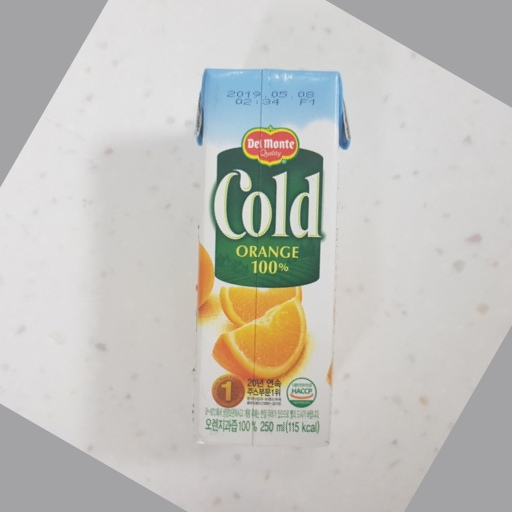Paper_0: (186, 60, 356, 454)
